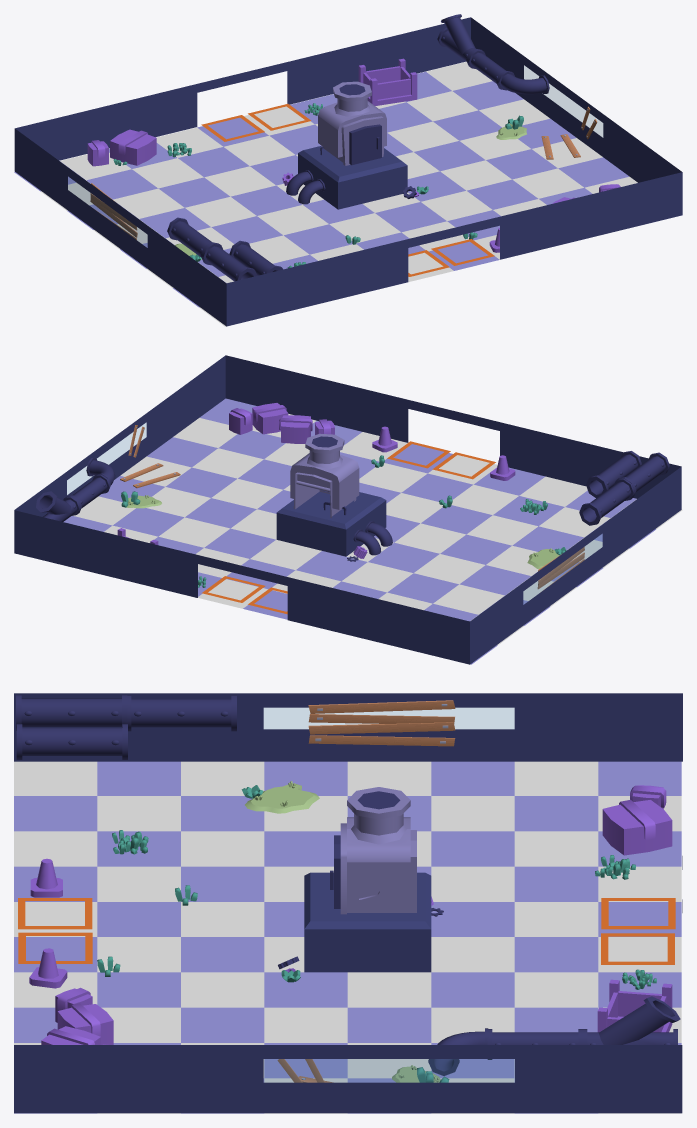
File: Level1.glb
3 views of the same model, one above another, from view 1: azimuth 30°, elevation 25°; view 2: azimuth 150°, elevation 25°; view 3: azimuth 270°, elevation 25° (orthographic). The views are drawn at different scales.
Visible parts, largest first — view 1: Room, generator, machine-connection-pipe, crate, box-large, Plane2.019, Plane2.039, Plane.013, Plane.029, Plane2.004, Plane2.018, Plane2.020 (+52 smaller); view 2: Room, generator, machine-connection-pipe, pipe-large-long.003, Plane2.006, Plane2.018, Plane2.023, Plane.015, Plane2.019, Plane2.027, Plane.025, Plane2.005 (+49 smaller); view 3: Room, generator, machine-connection-pipe, barricade-window-b, pipe-large-long.003, pipe-large-long, box-large, pipe-large-long.002, Plane2.004, Plane2.028, Plane2.029, Plane.003 (+73 smaller).
Part boxes in pixels (x1,y1,x2,y2): Room: (14,17,682,326); generator: (298,146,407,209); machine-connection-pipe: (318,81,386,165); crate: (358,58,417,105); box-large: (110,129,156,165); Plane2.019: (440,160,511,190); Plane2.039: (113,188,184,218); Plane.013: (158,177,229,207); Plane.029: (467,179,538,209); Plane2.004: (132,158,203,188); Plane2.018: (512,168,583,198); Plane2.020: (421,190,492,220); Room: (14,355,681,664); generator: (276,491,386,556); machine-connection-pipe: (290,433,359,517); pipe-large-long.003: (579,478,634,525); Plane2.006: (466,515,537,545); Plane2.018: (192,448,263,478); Plane2.023: (394,523,465,553); Plane.015: (440,534,511,564); Plane2.019: (211,478,282,508); Plane2.027: (250,539,321,569); Plane.025: (165,467,236,497); Plane2.005: (414,554,485,584); Room: (14,693,682,1113); generator: (304,872,431,972); machine-connection-pipe: (340,787,416,914); barricade-window-b: (308,700,455,746); pipe-large-long.003: (125,695,236,731); pipe-large-long: (16,695,127,730); box-large: (602,799,672,855); pipe-large-long.002: (16,724,127,759); Plane2.004: (514,831,598,866); Plane2.028: (514,972,598,1007); Plane2.029: (347,972,431,1007); Plane.003: (514,937,598,972).
Size of the model in its own units: 25 by 5.27 by 20.04.
Materials: 16 (2 with a texture image).
